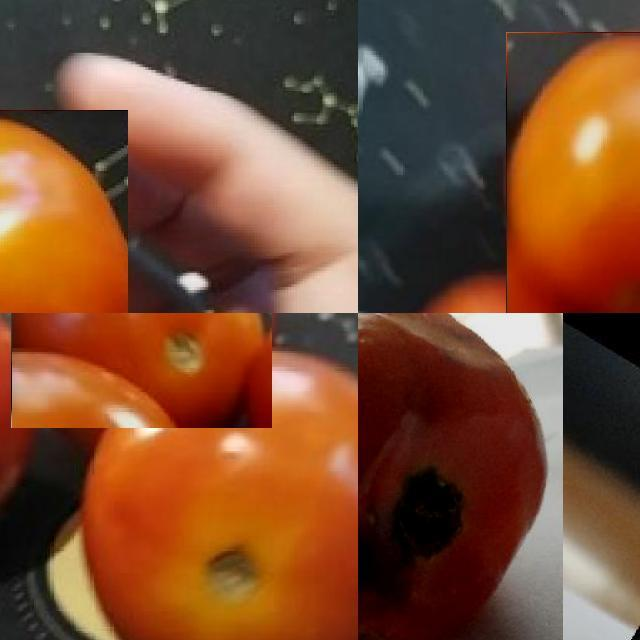Fresh Tomato: (79, 316, 358, 640), (505, 32, 640, 313), (11, 313, 272, 428), (0, 110, 127, 313)
Rotten Tomato: (358, 313, 562, 640)
